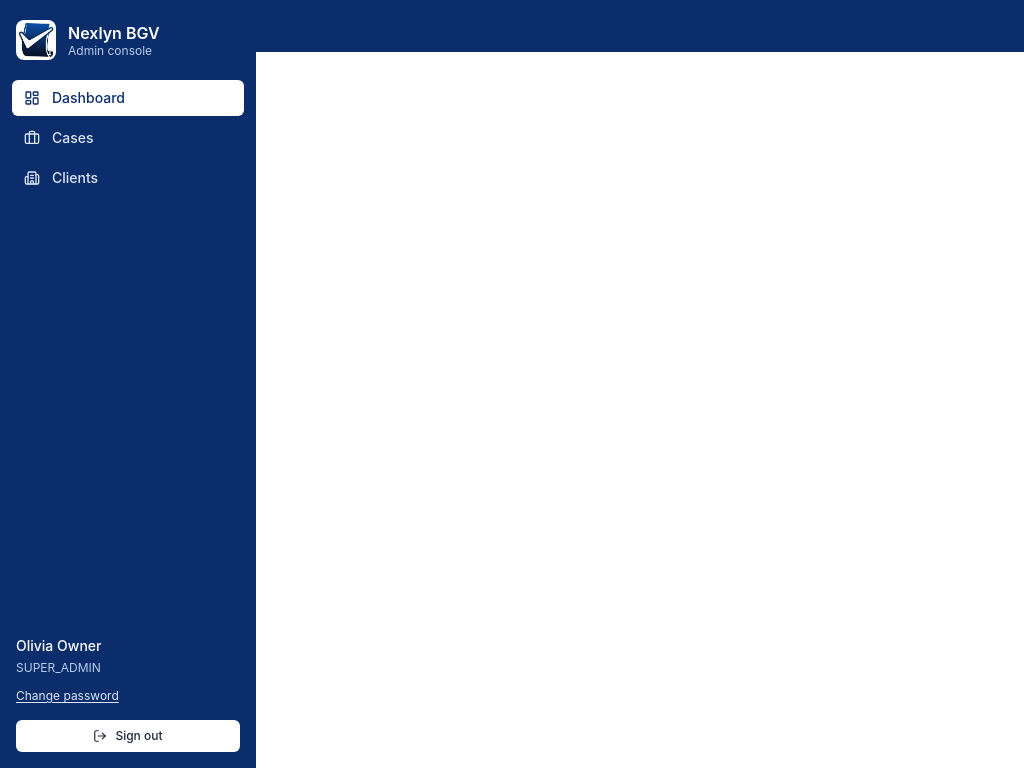
Test case: AppLayout › moves the focus to the new page content after navigating, not on the first load
Click the link "Cases" at (59, 138), box left=24, top=129, right=94, bottom=146
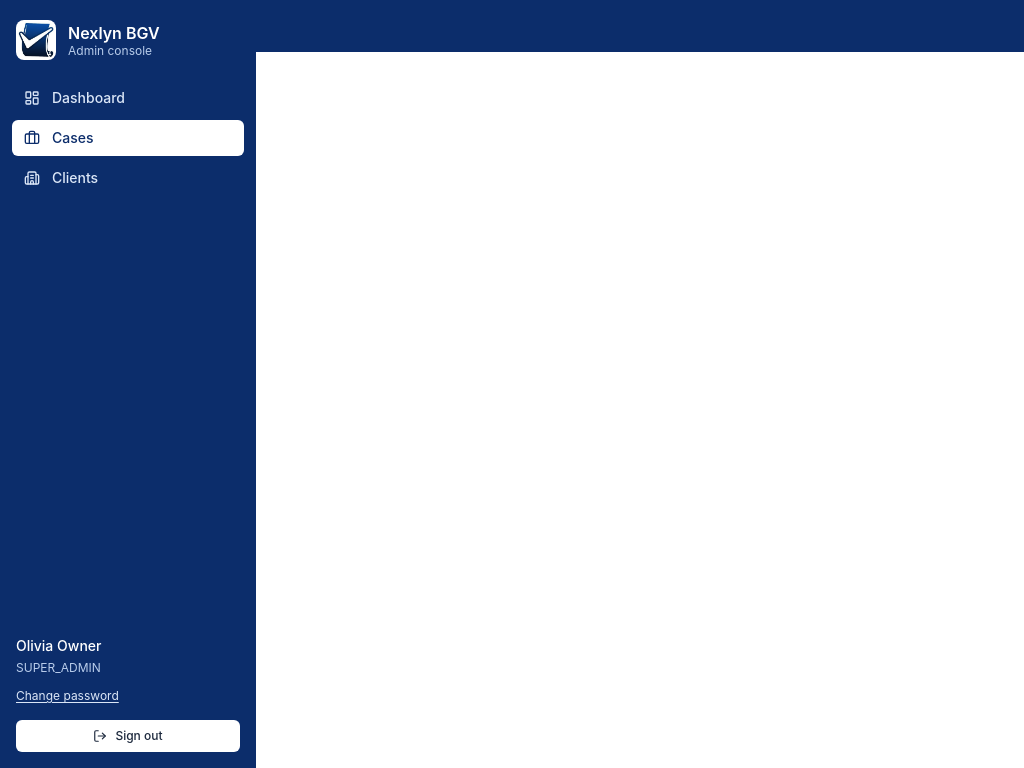
Now the heading "Cases page" is shown, box left=16, top=70, right=106, bottom=90
